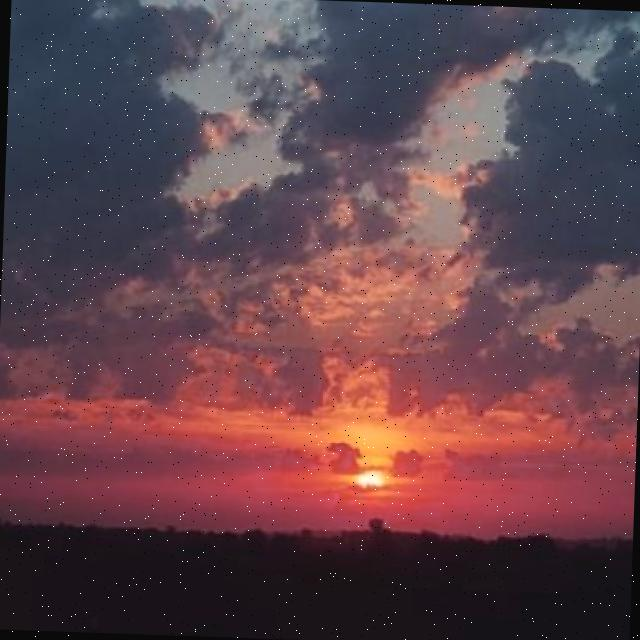Ac: (1, 1, 640, 435)
